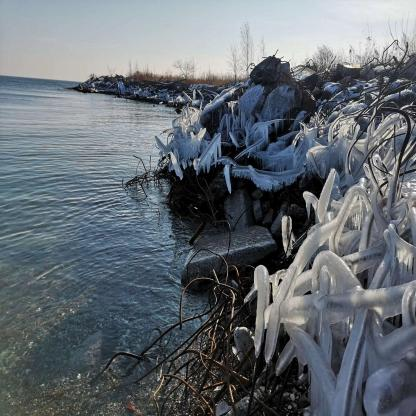rebar: (107, 216, 294, 416), (249, 46, 408, 113), (379, 102, 414, 188), (125, 151, 174, 196)
